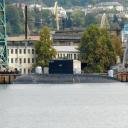submarine: (11, 60, 121, 85)
